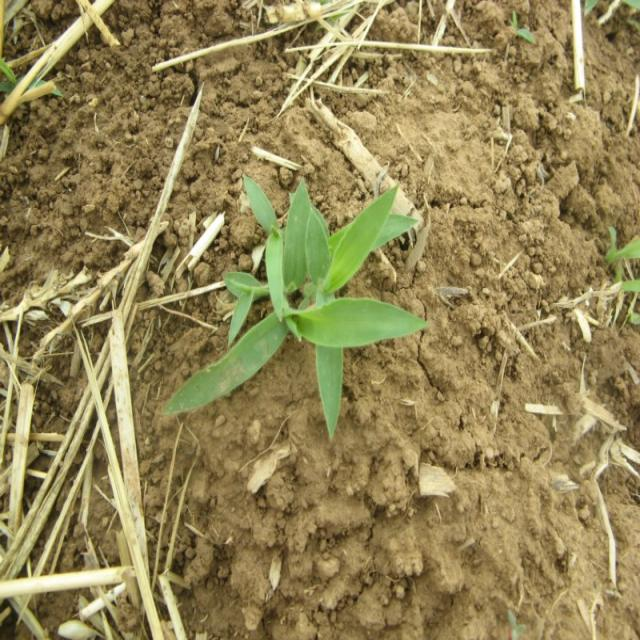bg: (156, 174, 433, 436)
